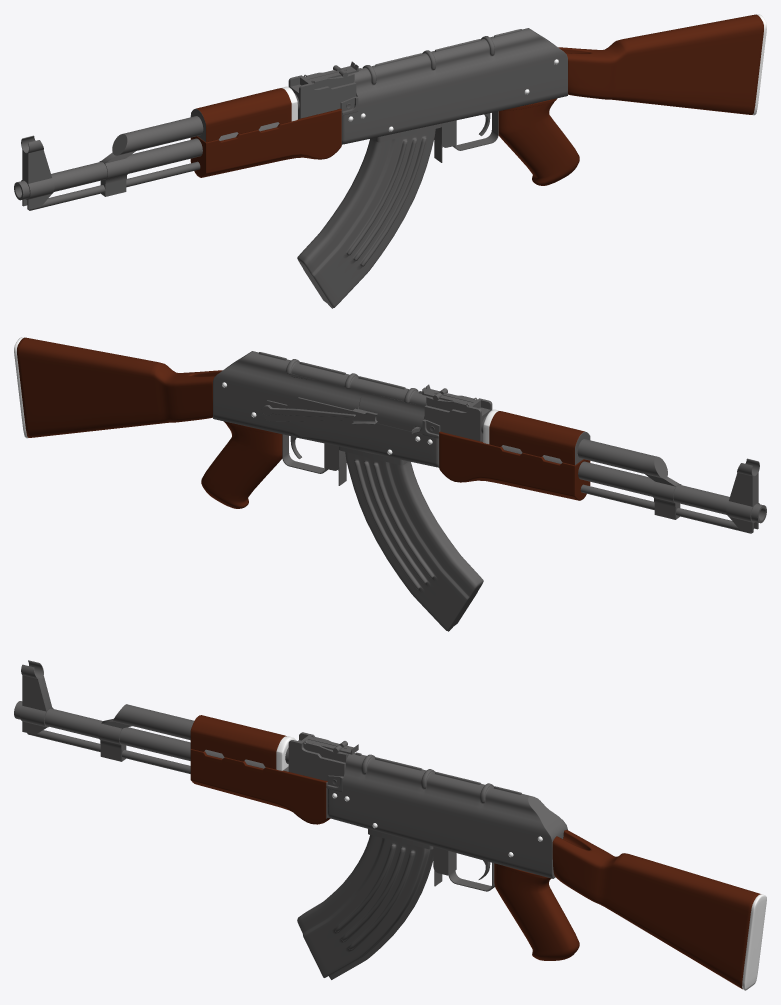
The picture shows the model from 3 angles, top to bottom: view 1: azimuth 30°, elevation 25°; view 2: azimuth 150°, elevation 25°; view 3: azimuth 330°, elevation 25°; orthographic projection.
Parts seen in each view (by area): view 1: Cube.013; view 2: Cube.013; view 3: Cube.013.
Part boxes in pixels (box(x1,y1,x2,y2)): Cube.013: box(14, 14, 766, 308); Cube.013: box(14, 337, 766, 631); Cube.013: box(14, 660, 766, 990).
Bounding box in the file's own units: 0.5551 × 0.1733 × 0.0289.
